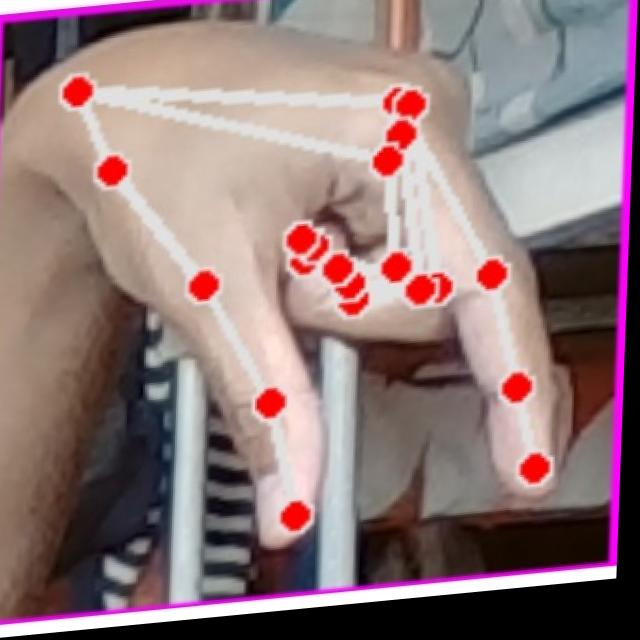Q: (32, 0, 586, 578)
